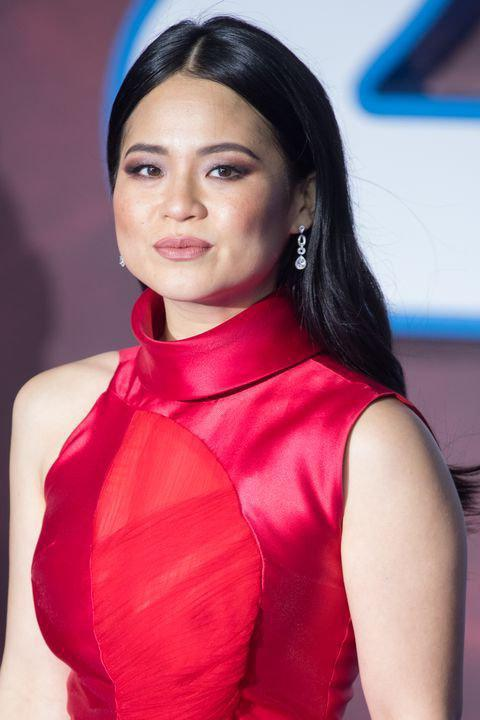Sober: (127, 92, 282, 290)
